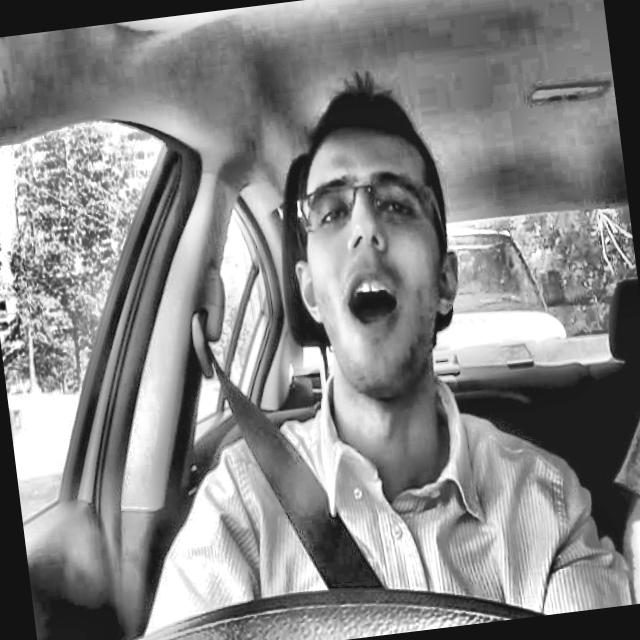open_eyes: (374, 185, 423, 233), (302, 195, 355, 237)
open_mouth: (334, 264, 414, 345)
